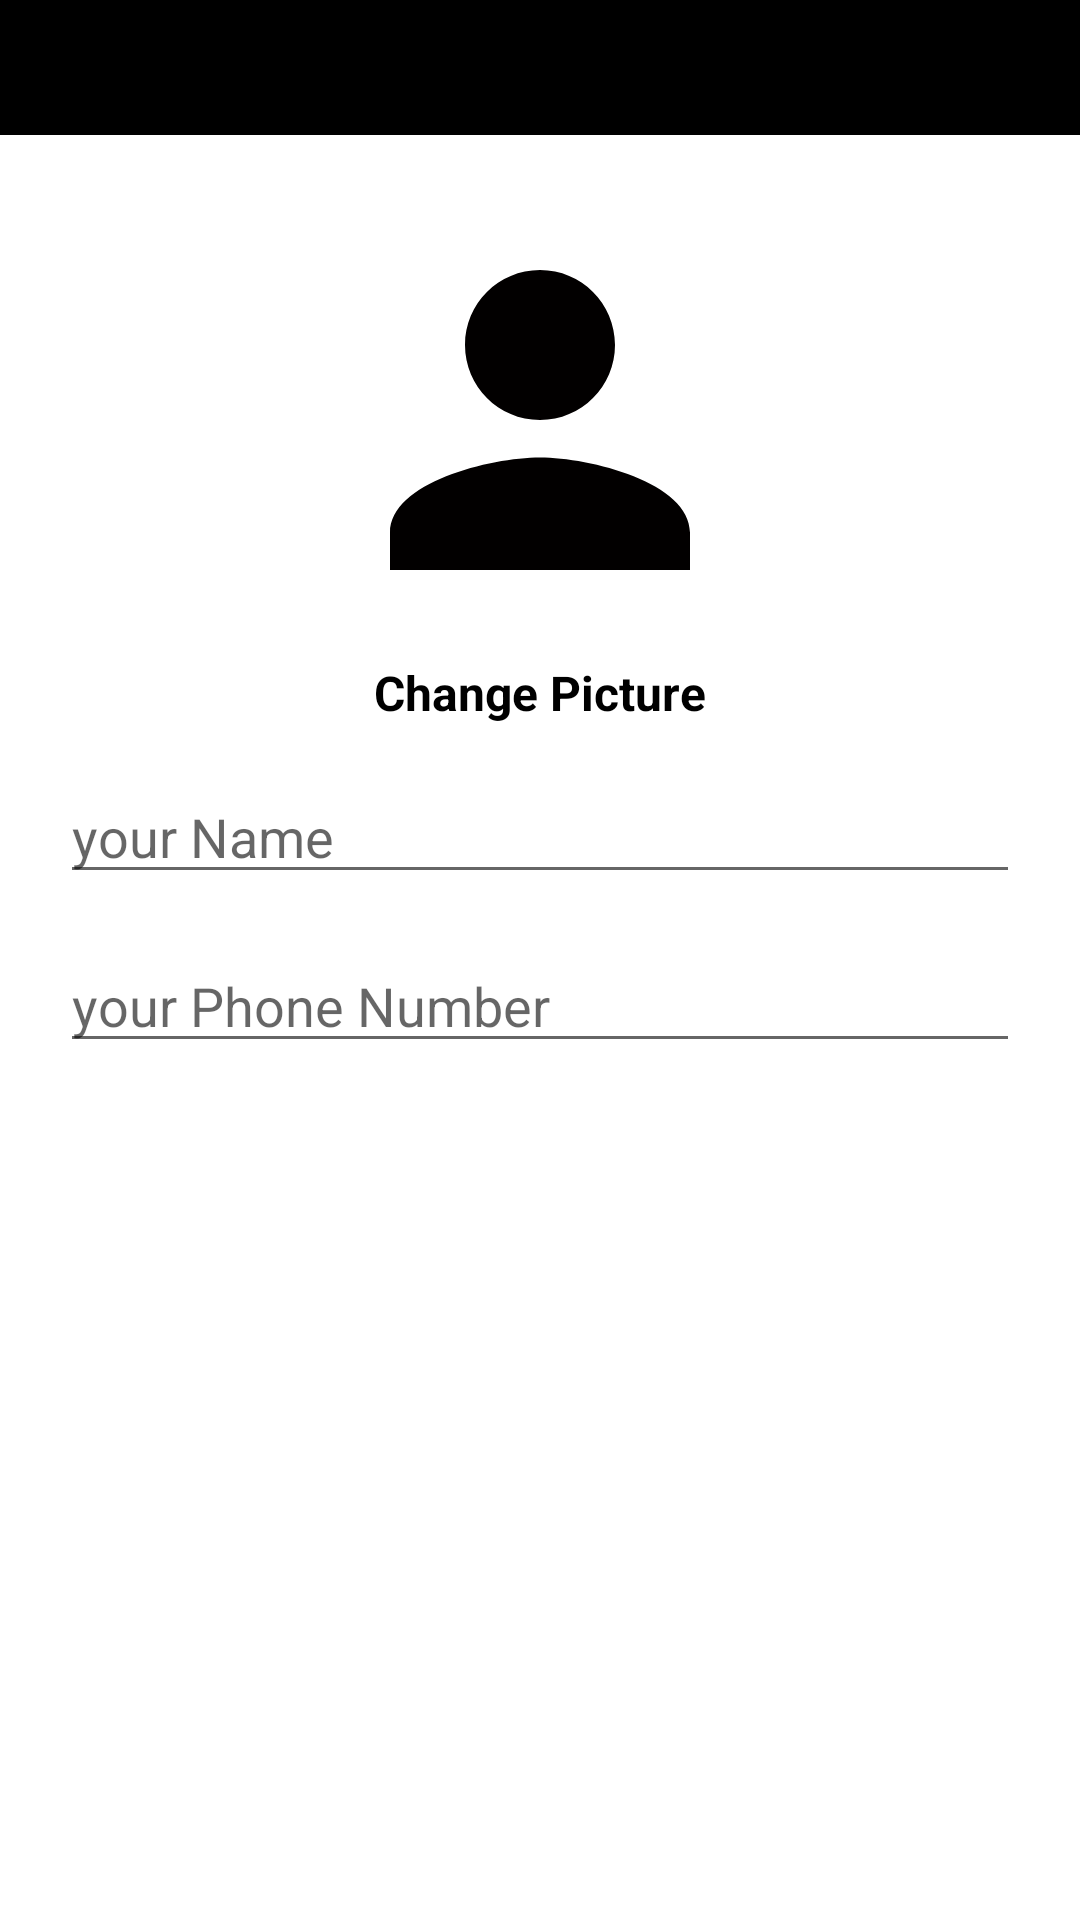

Icons on this 1080×1920 Android screen, each with the point to tap as (x=x, y=y):
person: (x=540, y=420)
